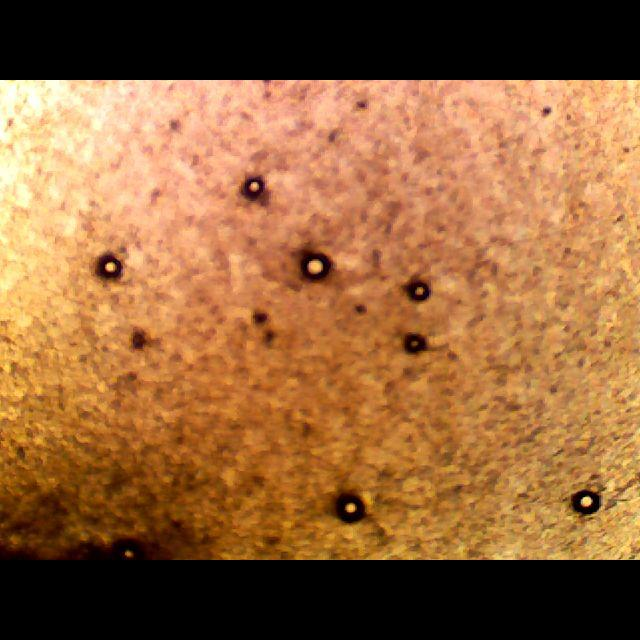microbeads: (90, 245, 130, 281), (296, 250, 336, 282), (400, 324, 430, 356), (240, 173, 266, 204), (405, 276, 433, 302)
